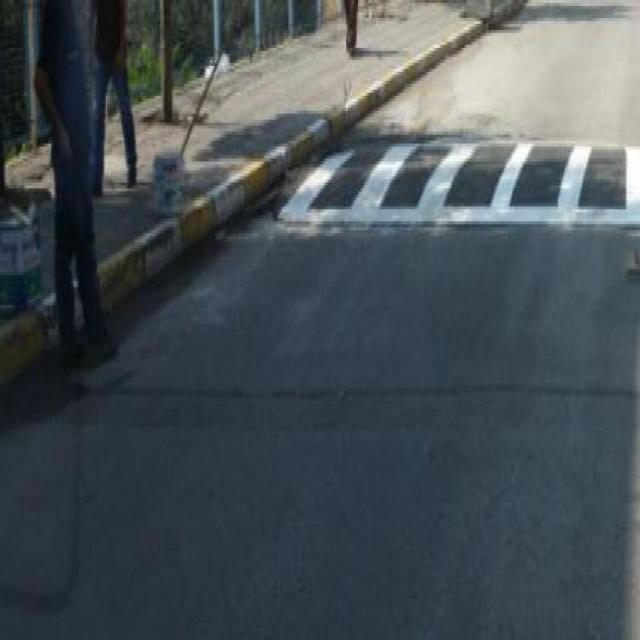speedbreaker: (272, 138, 640, 228)
